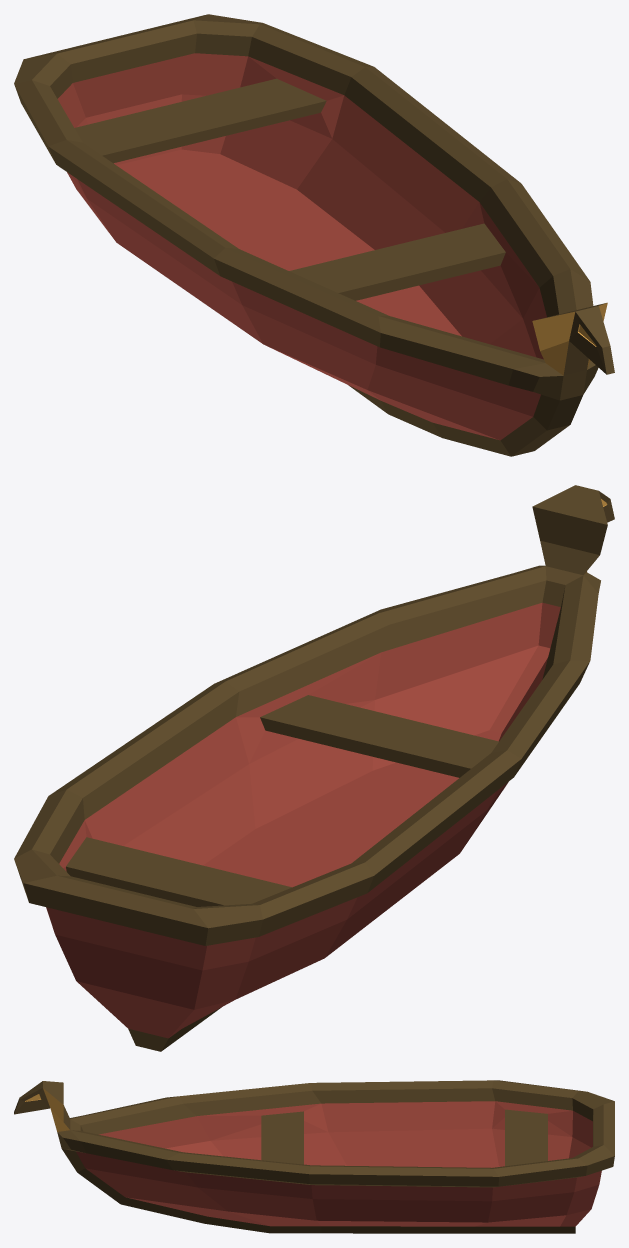
Rendered from Rowboat.fbx.
3 views of the same model, one above another, from view 1: azimuth 30°, elevation 25°; view 2: azimuth 150°, elevation 25°; view 3: azimuth 270°, elevation 25° (orthographic). The views are drawn at different scales.
Parts seen in each view (by area): view 1: Rowboat; view 2: Rowboat; view 3: Rowboat.
Boxes of the visible parts, left/top/right/bottom form: Rowboat: left=14, top=14, right=614, bottom=456; Rowboat: left=14, top=485, right=614, bottom=1051; Rowboat: left=14, top=1080, right=614, bottom=1233.
Size of the model in its own units: 91.13 by 64.03 by 240.
